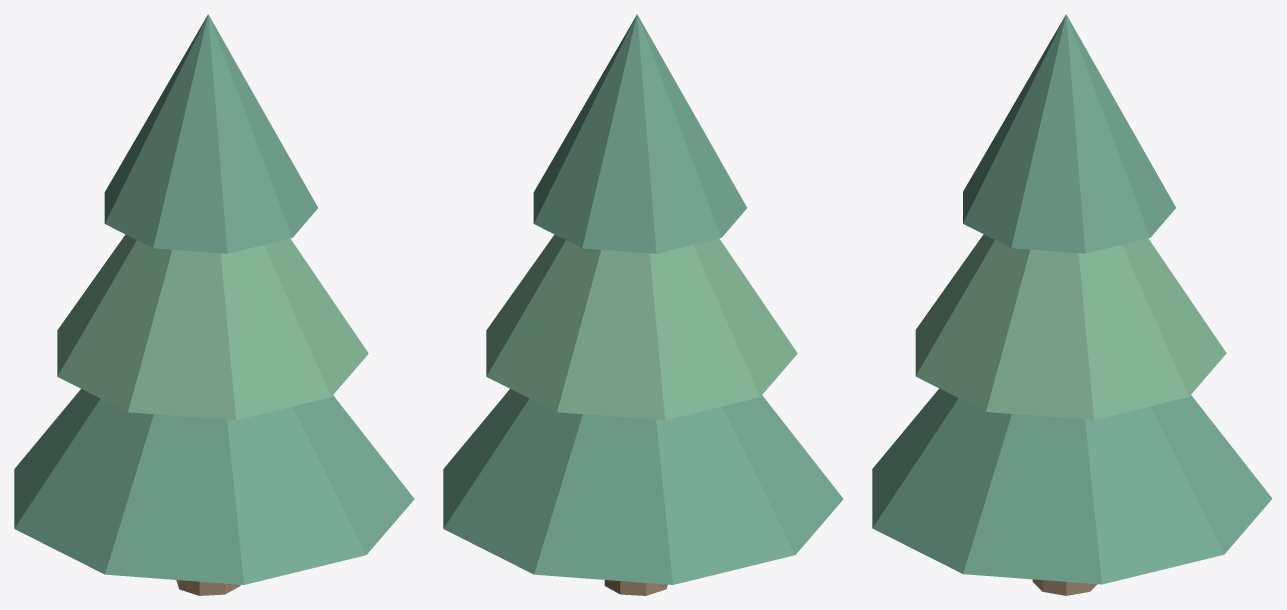
The model's file is tree_pine.glb.
3 renders of one model, left to right at view 1: azimuth 30°, elevation 25°; view 2: azimuth 150°, elevation 25°; view 3: azimuth 270°, elevation 25°, orthographic.
Parts seen in each view (by area): view 1: tree_pine; view 2: tree_pine; view 3: tree_pine.
Boxes of the visible parts, box(x1,y1,x2,y2) form: tree_pine: box(14, 14, 414, 595); tree_pine: box(443, 14, 843, 595); tree_pine: box(872, 14, 1272, 595).
Size of the model in its own units: 2.66 by 4.1 by 2.62.
